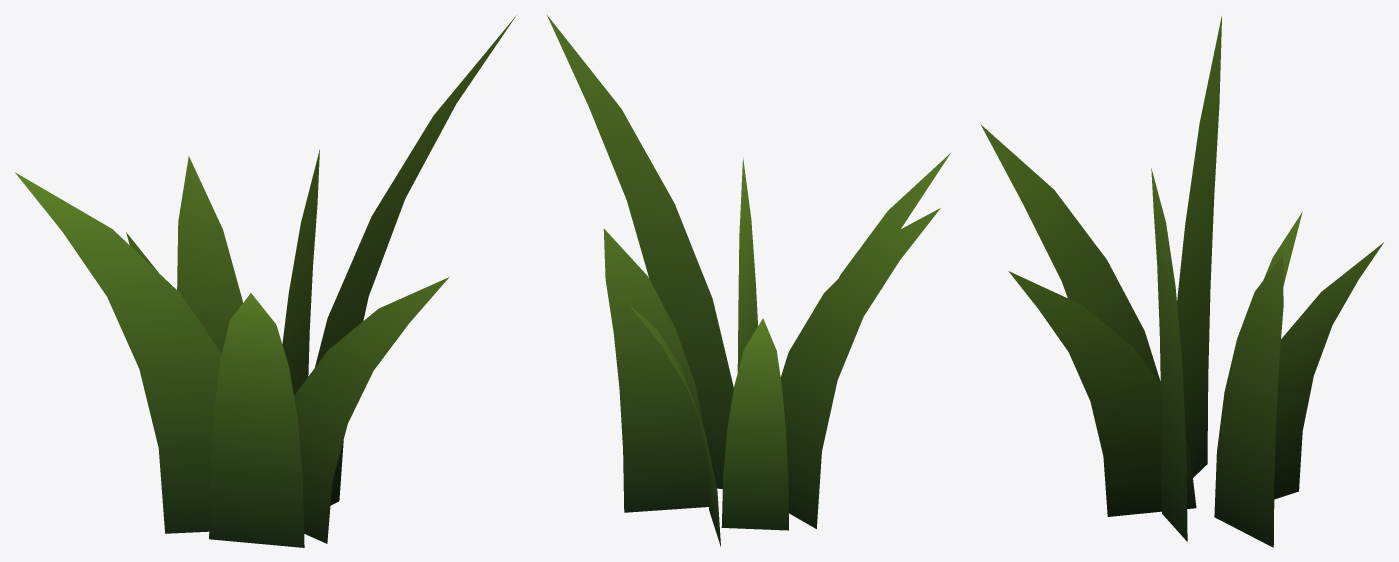
The model's file is grass.glb.
3 views of the same model, side by side, from view 1: azimuth 30°, elevation 25°; view 2: azimuth 150°, elevation 25°; view 3: azimuth 270°, elevation 25° (orthographic). The views are drawn at different scales.
Visible parts, largest first — view 1: grass; view 2: grass; view 3: grass.
Part boxes in pixels (<box>): grass: <box>15,15,516,547</box>; grass: <box>546,14,950,546</box>; grass: <box>980,16,1383,547</box>.
Bounding box in the file's own units: 0.9667 × 0.914 × 0.7429.
